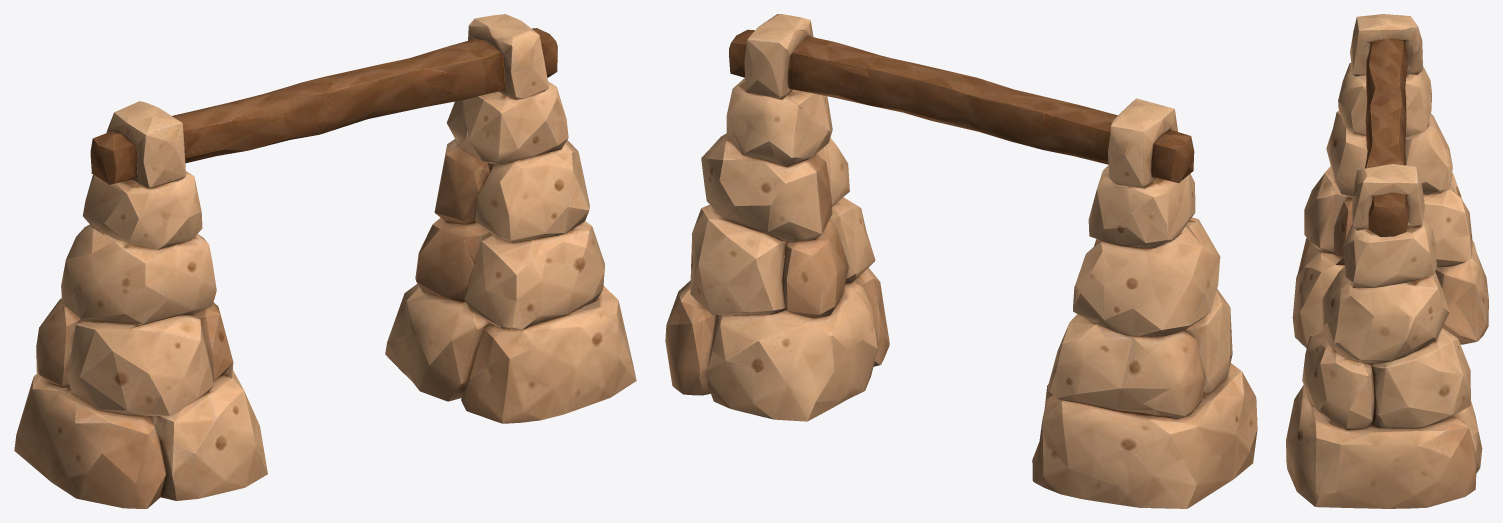
Rendered from midian-village-gate.glb.
3 views of the same model, side by side, from view 1: azimuth 30°, elevation 25°; view 2: azimuth 150°, elevation 25°; view 3: azimuth 270°, elevation 25° (orthographic). The views are drawn at different scales.
Bounding box in the file's own units: 1.9 × 1.16 × 0.7063.
1 material, 1 textured.
